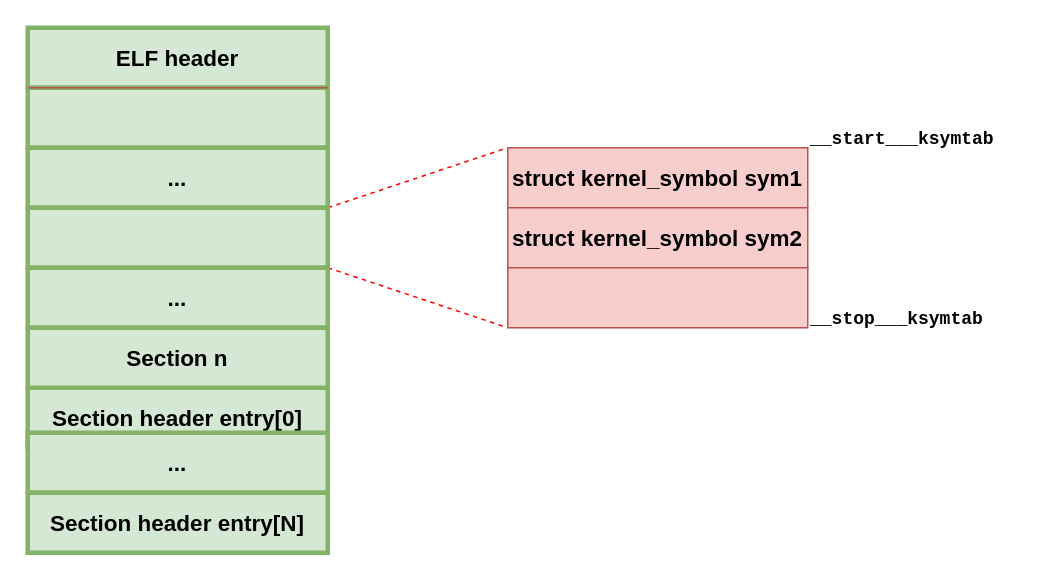
Image size: 1059x581. Some labels were removed from this diagram. The shapes that lost their labels are listed below. From the top down, each one's box as (x1, y1, x2, y2) in pixels, then its label:
(25, 85, 329, 149): Section 1
(25, 205, 329, 269): Section: __ksymtab
(506, 266, 808, 328): struct kernel_symbol symN
